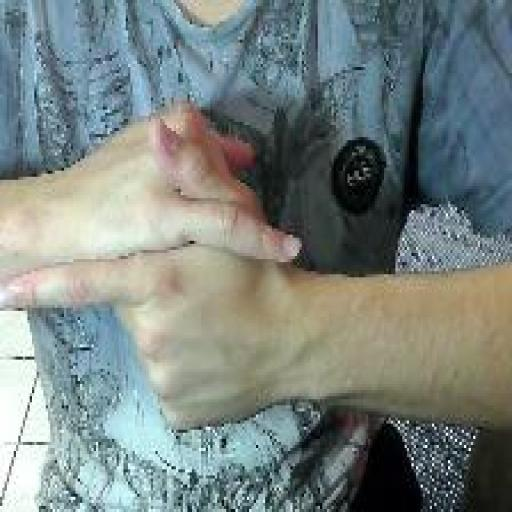U -hare-: (0, 97, 306, 435)
